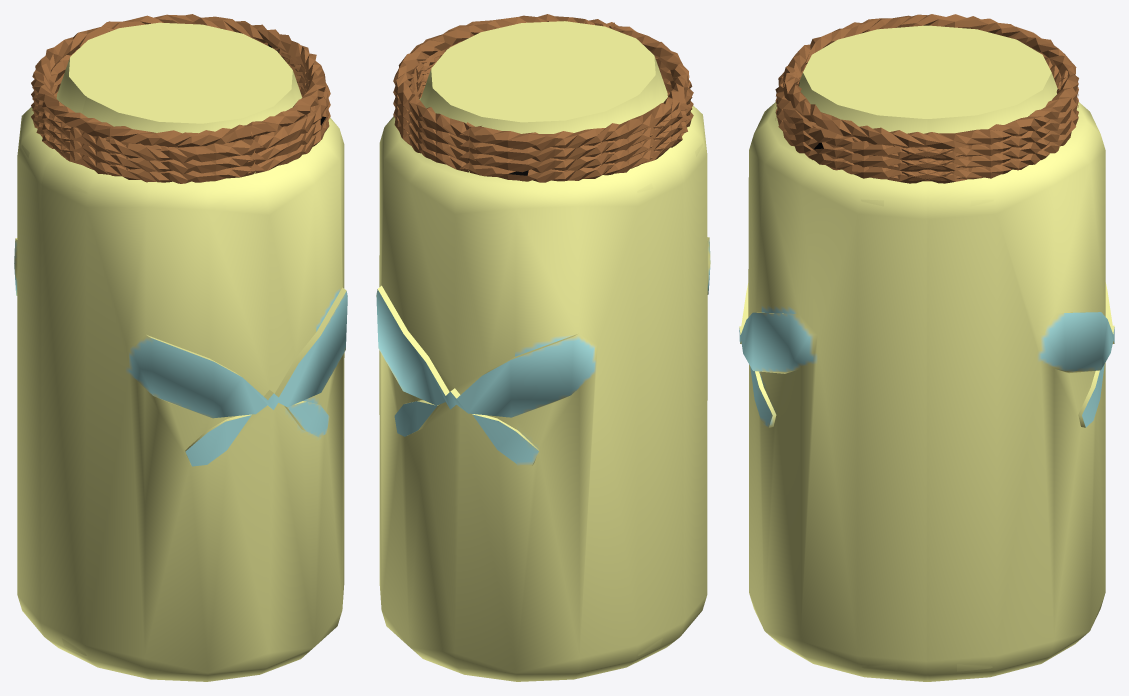
File: PotLuminous.fbx
3 renders of one model, left to right at view 1: azimuth 30°, elevation 25°; view 2: azimuth 150°, elevation 25°; view 3: azimuth 270°, elevation 25°, orthographic.
Parts seen in each view (by area): view 1: LuminousPot; view 2: LuminousPot; view 3: LuminousPot.
Part boxes in pixels (left/top/right/bottom): LuminousPot: left=14, top=14, right=347, bottom=681; LuminousPot: left=376, top=14, right=710, bottom=681; LuminousPot: left=739, top=14, right=1114, bottom=681.
Bounding box in the file's own units: 51.3 × 96.2 × 59.16.
